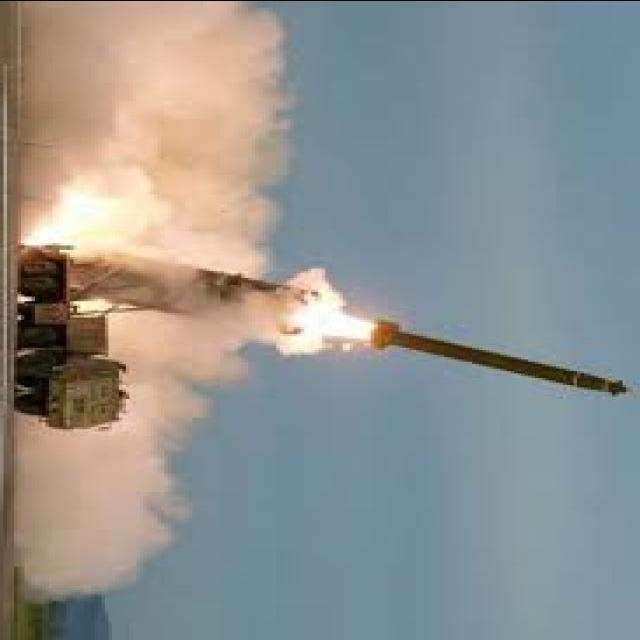missile: (358, 313, 635, 399)
